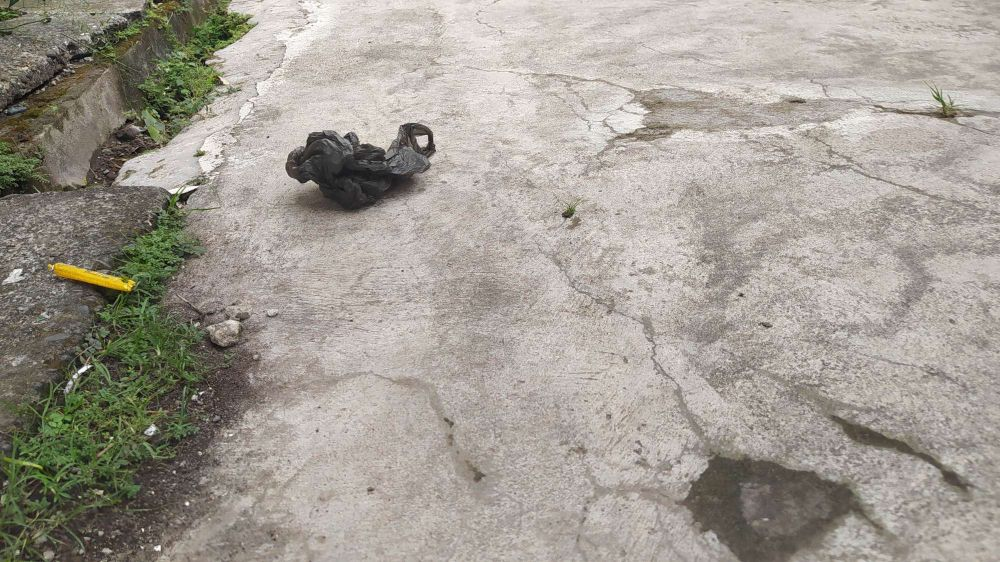plastik: (281, 130, 453, 219)
